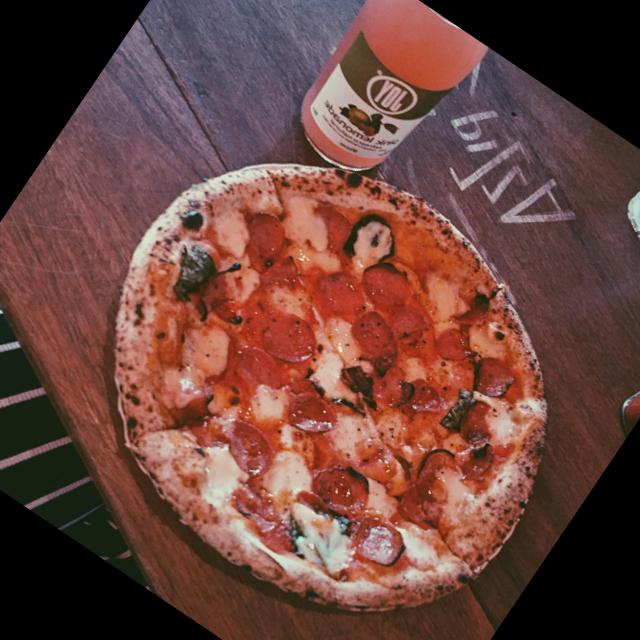pepperoni: (367, 356, 450, 431), (303, 452, 381, 528), (249, 298, 323, 369), (345, 254, 419, 322), (278, 381, 346, 447), (348, 512, 414, 577), (306, 259, 372, 322), (221, 419, 285, 482), (410, 440, 470, 504), (340, 304, 401, 365), (232, 205, 294, 265), (462, 348, 522, 407), (255, 240, 311, 298), (454, 434, 504, 486), (428, 318, 479, 366)
pizza: (110, 164, 548, 616)
